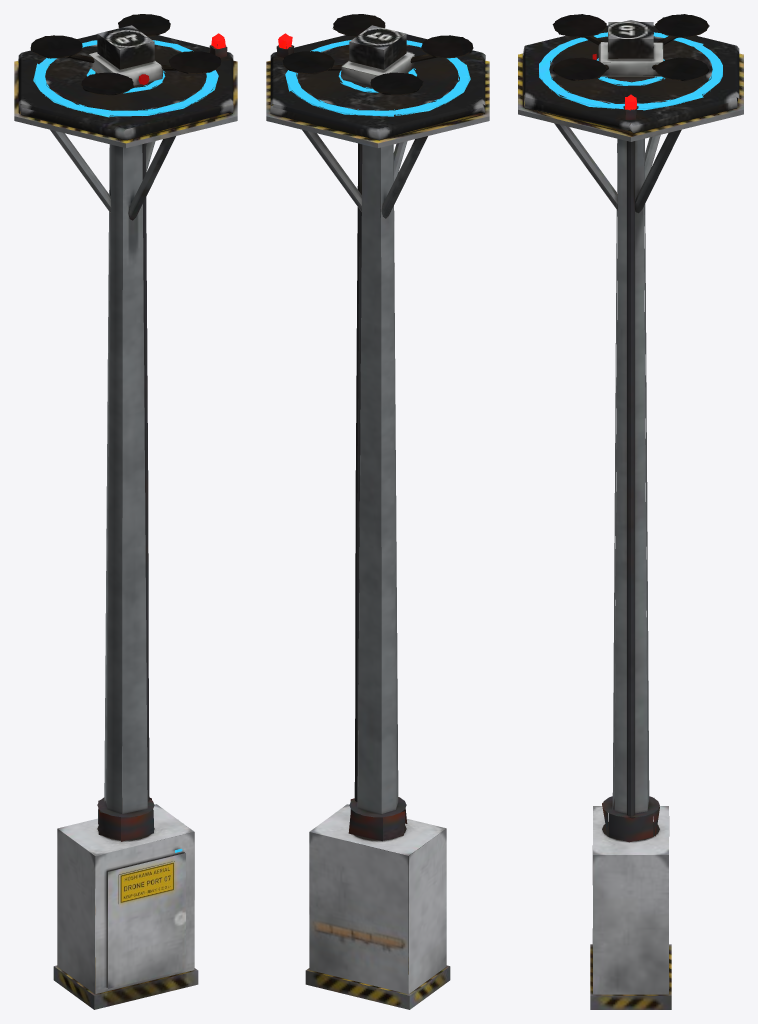
Rendered from drone_mast_lod1.glb.
3 views of the same model, side by side, from view 1: azimuth 30°, elevation 25°; view 2: azimuth 150°, elevation 25°; view 3: azimuth 270°, elevation 25° (orthographic).
Parts seen in each view (by area): view 1: drone_mast; view 2: drone_mast; view 3: drone_mast.
Boxes of the visible parts, x1,y1,x2,y2 form: drone_mast: (14, 14, 237, 1009); drone_mast: (266, 14, 489, 1009); drone_mast: (518, 14, 743, 1009).
Size of what is drawn, in the model's own units: 1.98 by 7.99 by 1.71.
Materials: 1 (1 with a texture image).
